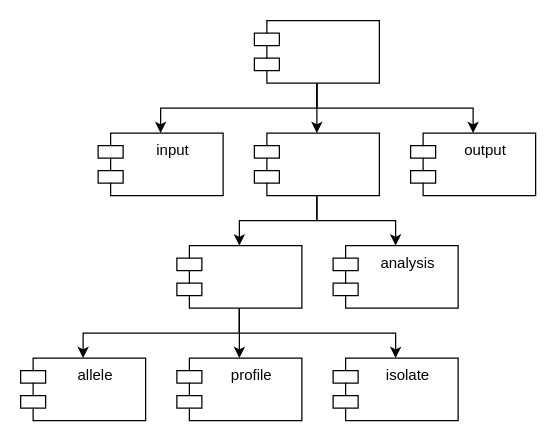
The diagram is 556 pixels wide and 441 high, and some of its shapes have lost their labels. Here are the shapes that lost their labels. From the top down, the centre of each, then its label:
At point 316,51: "io".
At point 316,164: "formatter".
At point 239,276: "dataset".
